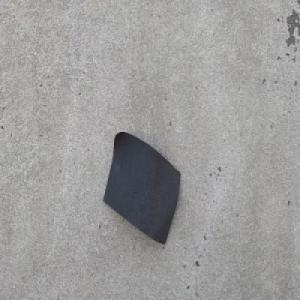PaintChip: (102, 129, 181, 246)
